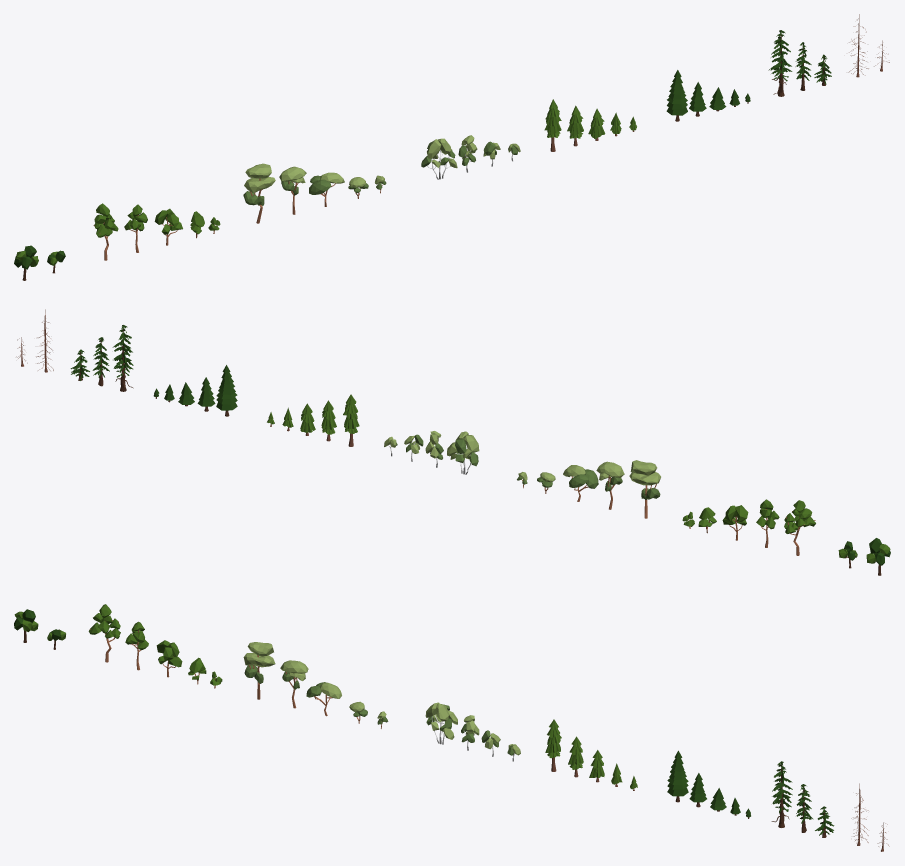
Rendered from Trees.fbx.
3 renders of one model, top to bottom at view 1: azimuth 30°, elevation 25°; view 2: azimuth 150°, elevation 25°; view 3: azimuth 330°, elevation 25°, orthographic.
Visible parts, largest first — view 1: Tree _Type 6_05, Tree _Type 5_04, Tree _Type 2_03, Tree _Type 3_05, Tree _Type 7_05, Tree _Type 6_03, Tree _Type 6_04; view 2: Tree _Type 6_05, Tree _Type 5_04, Tree _Type 7_05, Tree _Type 2_03, Tree _Type 3_05, Tree _Type 6_03, Tree _Type 6_04; view 3: Tree _Type 6_05, Tree _Type 5_04, Tree _Type 7_05, Tree _Type 3_05, Tree _Type 2_03, Tree _Type 6_04, Tree _Type 7_03, Tree _Type 6_03, Tree _Type 4_05.
Boxes of the visible parts, box(x1,y1,x2,y2) form: Tree _Type 6_05: box(243, 163, 275, 223); Tree _Type 5_04: box(421, 138, 457, 179); Tree _Type 2_03: box(768, 30, 792, 96); Tree _Type 3_05: box(666, 70, 687, 121); Tree _Type 7_05: box(93, 203, 118, 260); Tree _Type 6_03: box(309, 172, 344, 206); Tree _Type 6_04: box(279, 166, 306, 214); Tree _Type 6_05: box(629, 460, 660, 518); Tree _Type 5_04: box(447, 431, 479, 474); Tree _Type 7_05: box(784, 500, 815, 555); Tree _Type 2_03: box(112, 325, 133, 391); Tree _Type 3_05: box(216, 365, 237, 416); Tree _Type 6_03: box(563, 465, 598, 501); Tree _Type 6_04: box(596, 461, 624, 509); Tree _Type 6_05: box(243, 642, 275, 699); Tree _Type 5_04: box(425, 702, 457, 744); Tree _Type 7_05: box(88, 604, 120, 662); Tree _Type 3_05: box(667, 750, 688, 802); Tree _Type 2_03: box(771, 761, 792, 827); Tree _Type 6_04: box(280, 660, 308, 708); Tree _Type 7_03: box(156, 640, 182, 677); Tree _Type 6_03: box(306, 682, 341, 716); Tree _Type 4_05: box(545, 719, 561, 771).
Bounding box in the file's own units: 11824 × 851 × 359.
